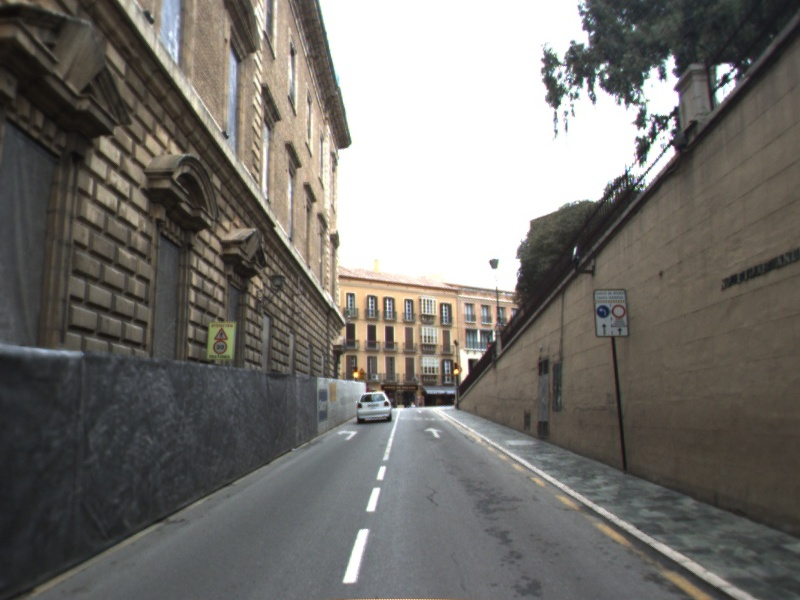LEFT: (336, 428, 360, 442)
STRAIGHT: (422, 425, 445, 440)
